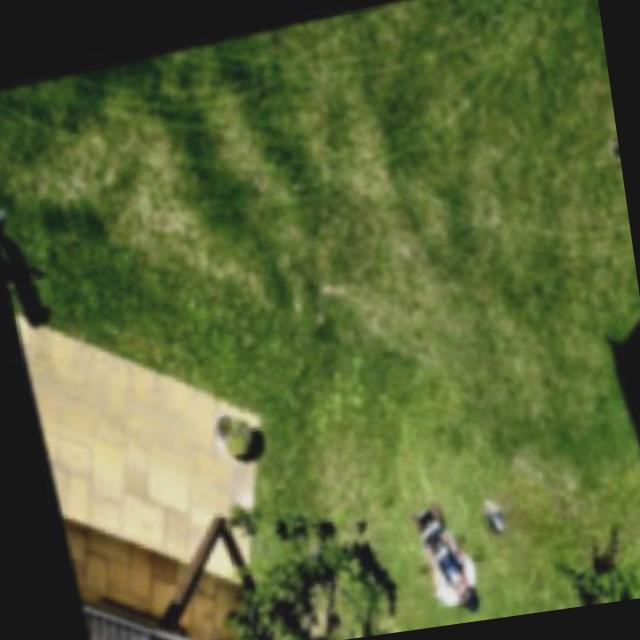Person: (400, 520, 477, 620)
